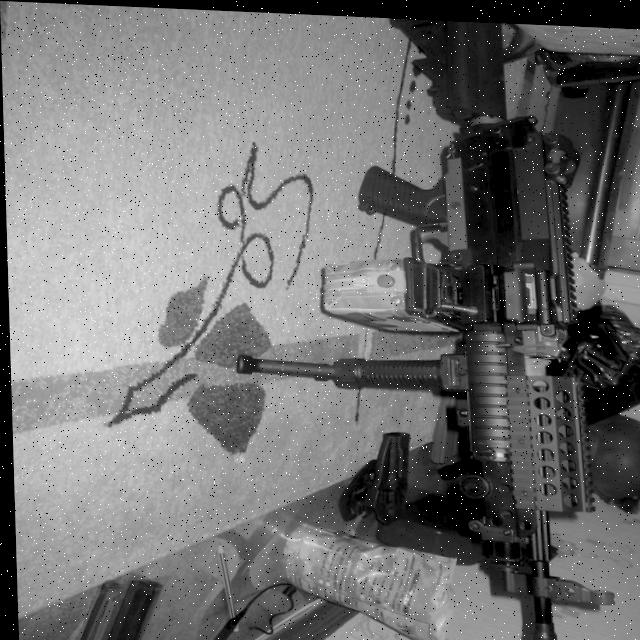firearm: (219, 8, 614, 640)
